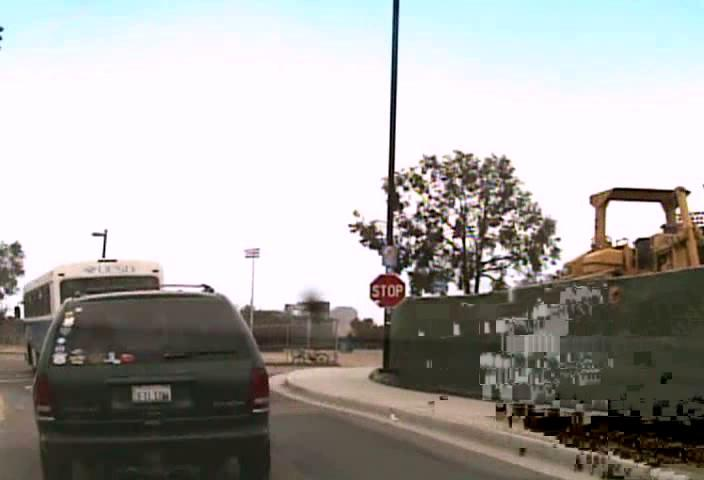stop: (368, 273, 406, 308)
